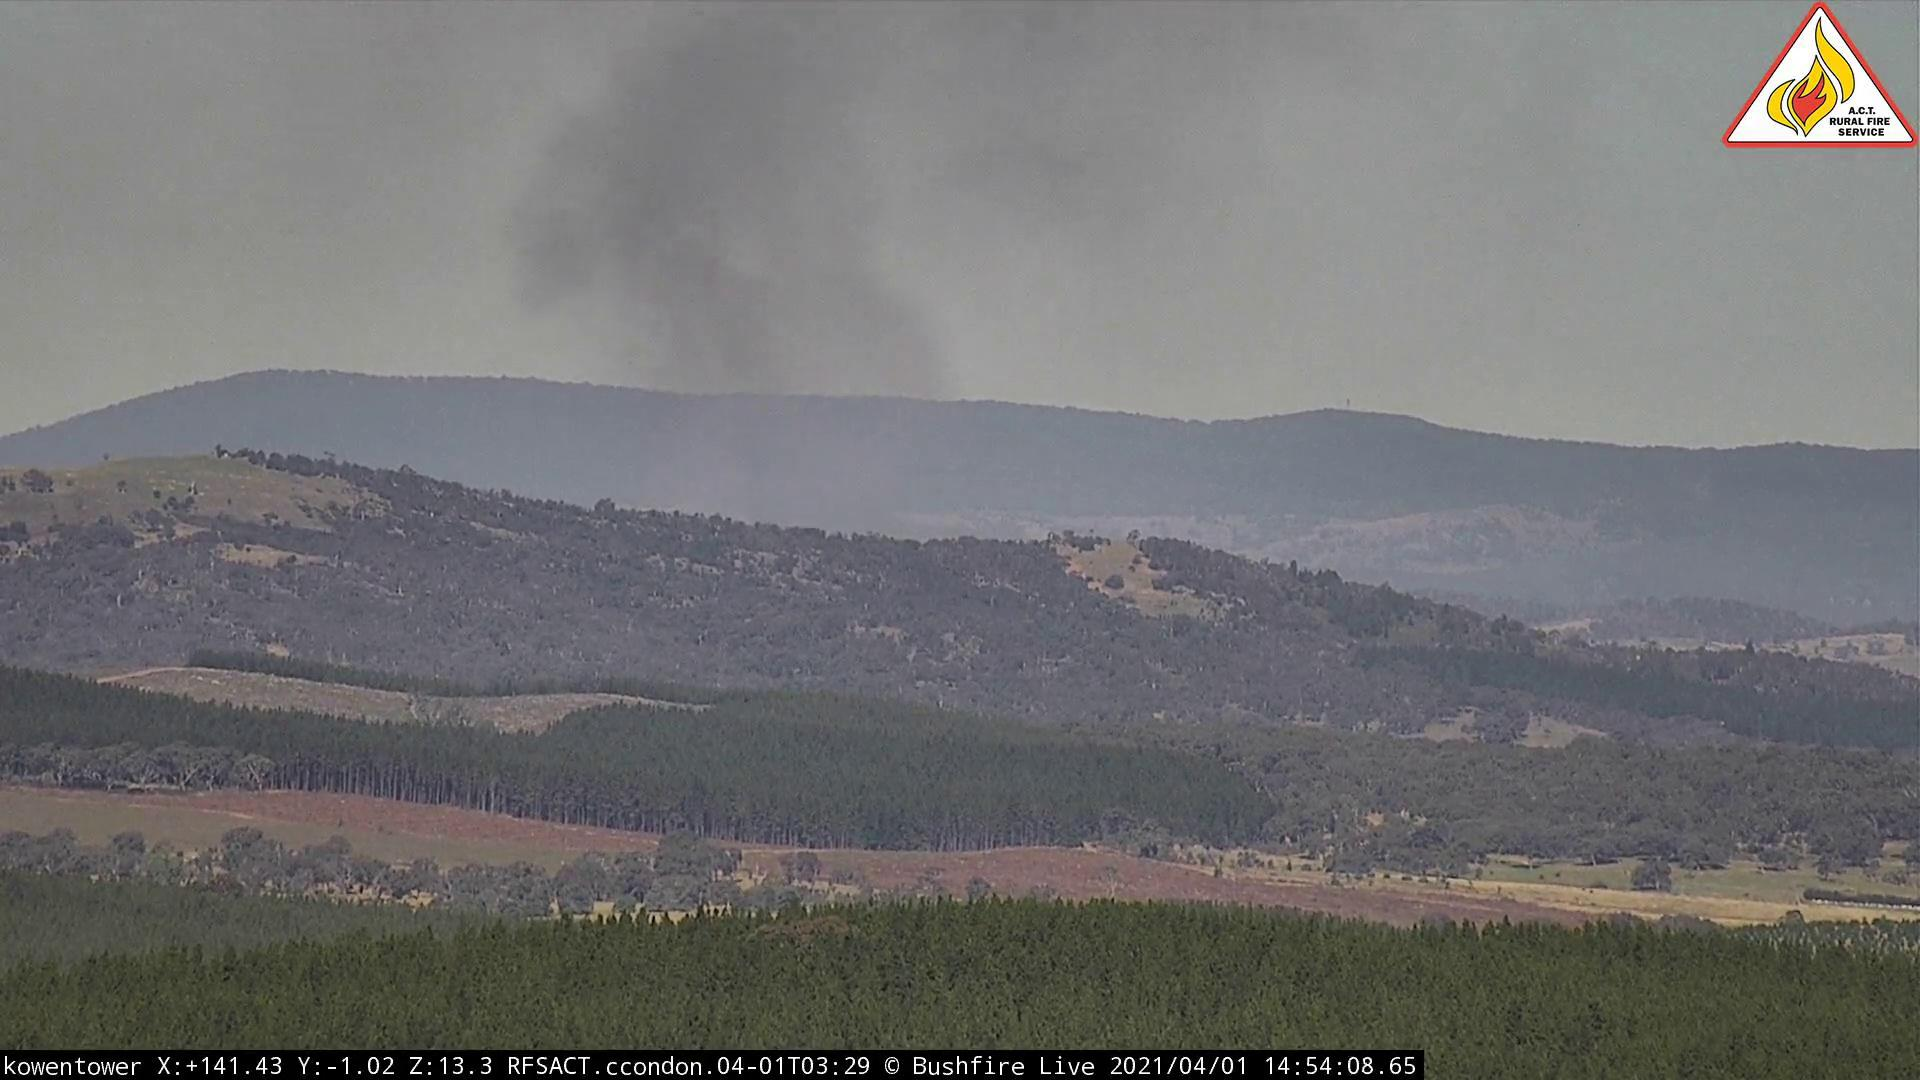Smoke: (465, 3, 1282, 542)
